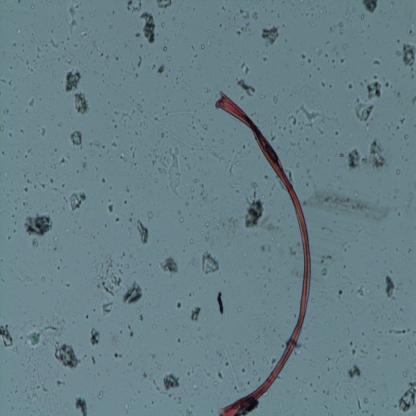Background material: (310, 192, 384, 222), (345, 136, 388, 173), (97, 249, 122, 296), (241, 186, 267, 230), (165, 142, 184, 195), (292, 101, 326, 128), (52, 337, 81, 368), (22, 210, 53, 237), (138, 12, 158, 46), (352, 99, 375, 126), (158, 253, 182, 278), (150, 144, 167, 176), (397, 383, 416, 411), (124, 280, 143, 306), (161, 369, 182, 392), (64, 4, 79, 36), (24, 326, 44, 350), (64, 64, 81, 92), (132, 101, 148, 130), (260, 25, 283, 45), (45, 317, 66, 338), (234, 77, 256, 97), (382, 273, 398, 300), (366, 78, 384, 101), (213, 216, 237, 233), (401, 41, 416, 68), (70, 189, 86, 211), (0, 321, 13, 348), (215, 289, 227, 316), (75, 92, 89, 115), (74, 394, 89, 415), (136, 221, 151, 242), (100, 47, 119, 63), (386, 326, 416, 336), (355, 285, 375, 300), (233, 22, 254, 36), (100, 297, 114, 318), (70, 127, 83, 148), (348, 366, 362, 385), (191, 304, 204, 322), (362, 0, 380, 13), (89, 326, 100, 346), (262, 220, 280, 232), (127, 0, 143, 13), (121, 110, 132, 128), (23, 382, 38, 395), (318, 254, 334, 266), (238, 61, 250, 77), (156, 0, 175, 10), (61, 154, 74, 168), (200, 229, 212, 244), (25, 405, 41, 416), (289, 242, 301, 256), (288, 137, 302, 148), (315, 1, 325, 16), (130, 141, 138, 159), (116, 151, 128, 163), (78, 28, 90, 40), (24, 144, 34, 158), (122, 400, 132, 414), (126, 323, 134, 340), (153, 378, 162, 393), (240, 9, 251, 21), (203, 368, 215, 379), (156, 62, 166, 75), (130, 210, 138, 226), (289, 112, 298, 126), (397, 281, 406, 295), (35, 43, 42, 61), (96, 388, 105, 402), (30, 57, 37, 75), (158, 129, 169, 140), (268, 183, 276, 198), (302, 54, 312, 66), (183, 404, 193, 416), (336, 348, 348, 358), (360, 342, 368, 357), (213, 152, 225, 162), (49, 40, 61, 50), (346, 94, 355, 107), (320, 226, 333, 235), (192, 383, 201, 396), (107, 200, 115, 214), (187, 366, 195, 380), (344, 81, 354, 92), (359, 77, 369, 88), (313, 46, 324, 56), (181, 320, 192, 330), (304, 166, 313, 178), (373, 57, 382, 69), (12, 53, 24, 62), (355, 395, 362, 410), (88, 141, 96, 154), (384, 80, 394, 90), (406, 27, 416, 37), (284, 46, 294, 56), (56, 378, 66, 388), (21, 200, 32, 209), (61, 278, 70, 289), (122, 67, 129, 81), (114, 211, 121, 225), (320, 400, 328, 412), (40, 126, 48, 138), (232, 148, 240, 160), (200, 188, 208, 200), (260, 264, 272, 272), (90, 353, 97, 366), (334, 119, 341, 132), (129, 162, 139, 171), (260, 244, 270, 253), (270, 130, 278, 141), (133, 128, 144, 136), (333, 46, 341, 57), (242, 144, 250, 155), (112, 119, 120, 130), (51, 18, 56, 35), (137, 54, 143, 68), (338, 22, 345, 34), (28, 97, 35, 109), (254, 332, 261, 344), (233, 182, 240, 194), (245, 347, 252, 359), (337, 288, 344, 300), (66, 57, 75, 66), (300, 10, 310, 18), (320, 266, 328, 276), (368, 386, 378, 394), (109, 140, 117, 150), (100, 175, 108, 185), (80, 162, 90, 170), (85, 46, 93, 56), (44, 359, 52, 369), (252, 11, 260, 21), (145, 210, 153, 220), (178, 66, 186, 76), (283, 284, 293, 292), (0, 76, 8, 86), (261, 55, 269, 65), (410, 94, 416, 107), (228, 161, 234, 174), (216, 370, 223, 381), (272, 93, 279, 104), (12, 344, 19, 355), (379, 245, 390, 252), (387, 120, 393, 132), (32, 238, 38, 250), (165, 67, 171, 79), (270, 358, 276, 370), (80, 352, 89, 360), (373, 311, 379, 323), (408, 242, 414, 254), (211, 196, 220, 204), (39, 181, 47, 190), (319, 79, 326, 89), (57, 20, 64, 30), (176, 302, 183, 312), (42, 39, 49, 49), (399, 116, 406, 126), (306, 1, 313, 11), (324, 184, 334, 191), (142, 370, 149, 380), (340, 274, 350, 281), (353, 190, 360, 200), (35, 170, 42, 180), (12, 214, 18, 225), (204, 347, 210, 358), (331, 56, 336, 69), (310, 153, 318, 161), (394, 90, 402, 98), (58, 182, 66, 190), (186, 193, 194, 201), (322, 388, 330, 396), (135, 306, 143, 314), (282, 122, 289, 131), (113, 107, 120, 116), (114, 352, 123, 359), (329, 25, 336, 34), (197, 132, 204, 141), (263, 173, 270, 182), (225, 241, 232, 250), (62, 194, 68, 204), (23, 166, 28, 178), (2, 107, 8, 117), (64, 224, 70, 234), (186, 161, 192, 171), (411, 66, 415, 80), (308, 359, 316, 366), (16, 27, 23, 35), (259, 92, 266, 100), (207, 35, 212, 46), (123, 40, 129, 49), (92, 42, 98, 51), (396, 49, 402, 58), (304, 135, 310, 144), (351, 348, 357, 357), (12, 40, 18, 49), (134, 31, 141, 38), (43, 386, 50, 393), (8, 405, 15, 412), (342, 393, 348, 401), (204, 86, 210, 94), (138, 314, 144, 322), (187, 238, 195, 244), (334, 271, 340, 279), (261, 282, 267, 290), (312, 138, 318, 146), (403, 132, 409, 140), (183, 6, 191, 12), (0, 150, 6, 158), (344, 226, 352, 232), (51, 186, 59, 192), (402, 372, 410, 378), (263, 310, 269, 318), (90, 10, 98, 16), (26, 396, 32, 404), (107, 22, 113, 30), (166, 350, 170, 362), (396, 168, 401, 177), (394, 186, 399, 195), (233, 242, 242, 247), (26, 58, 30, 69), (176, 209, 182, 216), (61, 205, 67, 212), (372, 73, 378, 80), (164, 38, 170, 45), (252, 369, 258, 376), (364, 125, 370, 132), (12, 228, 18, 235), (52, 236, 59, 242), (338, 153, 345, 159), (200, 43, 206, 50), (311, 388, 318, 394), (8, 79, 14, 86), (218, 137, 224, 144), (266, 274, 272, 281), (177, 358, 184, 364), (348, 340, 354, 347), (193, 177, 199, 184), (253, 183, 259, 190), (199, 334, 205, 341), (40, 276, 46, 283), (364, 396, 369, 404), (202, 123, 207, 131), (151, 64, 156, 72), (192, 120, 196, 130), (125, 186, 130, 194), (8, 63, 13, 71), (393, 352, 398, 360), (302, 199, 307, 207), (362, 409, 370, 414), (316, 65, 321, 73), (289, 125, 293, 135), (401, 252, 406, 260), (335, 176, 343, 181), (51, 67, 55, 77), (284, 37, 289, 45), (181, 22, 186, 30), (276, 11, 281, 19), (237, 291, 245, 296), (237, 305, 242, 313), (32, 367, 36, 377), (52, 162, 57, 170), (380, 401, 386, 407), (280, 22, 286, 28), (191, 58, 195, 67), (338, 58, 344, 64), (325, 52, 331, 58), (140, 332, 144, 341), (132, 62, 136, 71), (52, 147, 58, 153), (342, 44, 348, 50), (333, 131, 339, 137), (270, 8, 276, 14), (326, 366, 332, 372), (275, 293, 281, 299), (7, 132, 13, 138), (70, 319, 76, 325), (161, 46, 167, 52), (297, 387, 303, 393), (334, 382, 340, 388), (212, 380, 218, 386), (376, 354, 382, 360), (334, 364, 340, 370), (204, 222, 210, 228), (134, 72, 140, 78), (40, 290, 46, 296), (346, 8, 351, 15), (280, 342, 285, 349), (328, 82, 333, 89), (324, 41, 331, 46), (0, 124, 5, 131), (243, 270, 248, 277), (52, 245, 59, 250), (13, 203, 18, 210), (190, 186, 195, 193), (24, 106, 29, 113), (177, 336, 181, 344), (308, 71, 312, 79), (264, 6, 268, 14), (152, 322, 156, 330), (73, 310, 77, 318), (274, 114, 278, 122), (296, 160, 300, 168), (406, 343, 410, 351), (96, 370, 100, 378), (232, 14, 236, 22), (152, 351, 156, 359), (91, 262, 96, 268), (376, 347, 382, 352), (224, 77, 229, 83), (103, 223, 108, 229), (73, 42, 78, 48), (303, 181, 309, 186), (397, 66, 402, 72), (197, 64, 202, 70), (396, 211, 401, 217), (252, 360, 257, 366), (86, 249, 91, 255), (27, 178, 32, 184), (0, 277, 5, 283), (291, 393, 297, 398), (346, 388, 351, 394), (308, 382, 313, 388), (278, 200, 284, 205), (267, 291, 272, 297), (342, 247, 348, 252), (58, 122, 64, 127), (326, 411, 332, 416), (241, 367, 246, 373), (268, 200, 274, 205), (221, 6, 226, 12), (280, 0, 286, 5), (310, 298, 315, 304), (128, 362, 134, 367), (377, 330, 383, 335), (248, 265, 254, 270), (45, 0, 50, 6), (7, 235, 13, 240), (358, 227, 363, 233), (149, 372, 154, 378), (5, 398, 11, 403), (49, 178, 54, 184), (97, 352, 102, 358), (36, 384, 41, 390), (96, 318, 102, 323), (63, 46, 67, 53), (396, 37, 400, 44), (98, 152, 102, 159), (286, 388, 290, 395), (342, 263, 346, 270), (284, 61, 288, 68), (57, 56, 61, 63), (59, 256, 63, 263), (401, 237, 405, 244), (342, 69, 346, 76), (391, 131, 395, 138), (262, 354, 266, 361), (33, 183, 37, 190), (178, 397, 181, 406), (246, 381, 251, 386), (167, 98, 172, 103), (360, 30, 365, 35), (147, 262, 152, 267), (223, 399, 228, 404), (24, 188, 29, 193), (186, 340, 191, 345), (94, 166, 99, 171), (324, 356, 329, 361), (138, 389, 143, 394), (300, 125, 304, 131), (80, 15, 84, 21), (191, 44, 195, 50), (162, 22, 166, 28), (412, 123, 416, 129), (180, 216, 184, 222), (154, 178, 158, 184), (352, 7, 356, 13), (286, 212, 290, 218), (118, 82, 122, 88), (222, 65, 225, 73), (216, 11, 220, 17), (272, 306, 278, 310), (360, 13, 364, 19), (218, 39, 222, 45), (228, 68, 232, 74), (203, 0, 207, 6), (20, 128, 24, 134), (344, 55, 348, 61), (392, 194, 396, 200), (278, 390, 282, 396), (210, 186, 214, 192), (2, 50, 6, 56), (316, 374, 320, 380), (201, 183, 205, 189), (287, 293, 291, 299), (31, 34, 34, 42), (188, 292, 192, 298), (398, 338, 402, 344), (286, 318, 290, 324), (158, 364, 161, 372), (151, 400, 155, 406), (111, 8, 115, 14), (348, 243, 352, 249), (92, 307, 96, 313), (304, 408, 308, 413), (334, 396, 338, 401), (183, 38, 187, 43), (102, 144, 106, 149), (342, 122, 346, 127), (311, 22, 315, 27), (161, 105, 165, 110), (304, 396, 308, 401), (43, 204, 48, 208), (396, 125, 400, 130), (202, 102, 206, 107), (295, 376, 299, 381), (96, 230, 100, 235), (352, 335, 356, 340), (344, 14, 349, 18), (194, 53, 198, 58), (168, 57, 172, 62), (61, 40, 66, 44), (258, 377, 262, 382), (326, 322, 330, 327), (144, 405, 148, 410), (51, 115, 56, 119), (115, 363, 119, 368), (31, 4, 35, 9), (168, 393, 172, 398), (25, 196, 30, 200), (333, 219, 337, 224), (221, 128, 225, 133), (212, 138, 216, 143), (372, 327, 376, 332), (5, 393, 10, 397), (275, 334, 280, 338), (19, 336, 23, 341), (197, 156, 202, 160), (395, 246, 399, 251), (296, 272, 300, 277), (269, 342, 272, 348), (219, 22, 222, 28), (24, 24, 27, 30), (100, 198, 103, 204), (207, 28, 210, 34), (256, 317, 259, 323), (209, 99, 212, 105), (15, 388, 18, 394), (17, 148, 20, 154), (294, 312, 297, 318), (86, 314, 89, 320), (384, 268, 388, 272), (106, 128, 110, 132), (76, 169, 80, 173), (174, 22, 178, 26), (390, 270, 394, 274), (326, 158, 330, 162), (370, 412, 374, 416), (382, 272, 386, 276), (200, 343, 204, 347), (310, 12, 314, 16), (108, 186, 112, 190), (387, 318, 391, 322), (324, 340, 328, 344), (124, 200, 128, 204), (361, 332, 365, 336), (334, 146, 338, 150), (186, 202, 190, 206), (272, 329, 276, 333), (393, 404, 397, 408), (210, 409, 214, 413), (78, 225, 81, 230), (405, 157, 408, 162), (303, 378, 306, 383), (392, 265, 395, 270), (17, 0, 22, 3), (206, 15, 209, 20), (296, 151, 299, 156), (228, 50, 231, 55), (191, 146, 194, 151), (57, 265, 60, 270), (345, 365, 348, 370), (10, 114, 13, 119), (263, 299, 266, 304), (236, 161, 239, 166), (298, 363, 301, 368), (173, 396, 176, 401), (184, 156, 187, 161), (291, 2, 294, 6), (402, 154, 404, 160), (102, 79, 105, 83), (74, 220, 77, 224), (334, 96, 337, 100), (271, 237, 274, 241), (164, 84, 166, 90), (407, 142, 410, 146), (388, 263, 391, 267), (198, 118, 201, 122), (92, 235, 96, 238), (385, 68, 390, 70), (364, 50, 366, 55), (108, 100, 110, 105), (209, 144, 212, 147), (193, 8, 195, 12), (84, 156, 86, 160), (400, 306, 401, 314), (272, 0, 274, 4), (64, 372, 66, 376), (128, 22, 130, 26), (102, 73, 104, 77), (99, 92, 101, 96)
Cotton: (216, 90, 312, 415)
Glass filter fibre: (222, 345, 241, 394), (198, 250, 220, 277), (154, 110, 196, 121), (176, 77, 192, 94)
